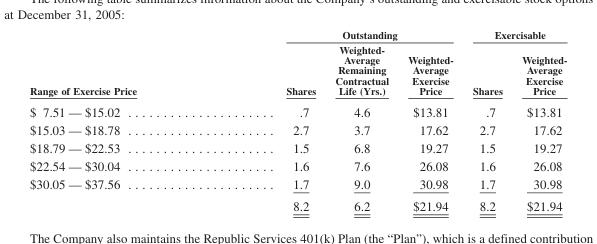table: (28, 28, 566, 213)
table column: (28, 28, 210, 213), (210, 28, 324, 213), (324, 28, 397, 213), (397, 28, 462, 213), (511, 28, 566, 213), (462, 28, 511, 213)
table column header: (28, 28, 566, 100)
table row: (28, 41, 566, 100), (28, 100, 566, 120), (28, 174, 566, 194), (28, 194, 566, 213), (28, 120, 566, 138), (28, 138, 566, 156), (28, 156, 566, 174), (28, 28, 566, 41)
table spanning cell: (28, 28, 210, 100), (210, 28, 462, 41), (462, 28, 566, 41)
